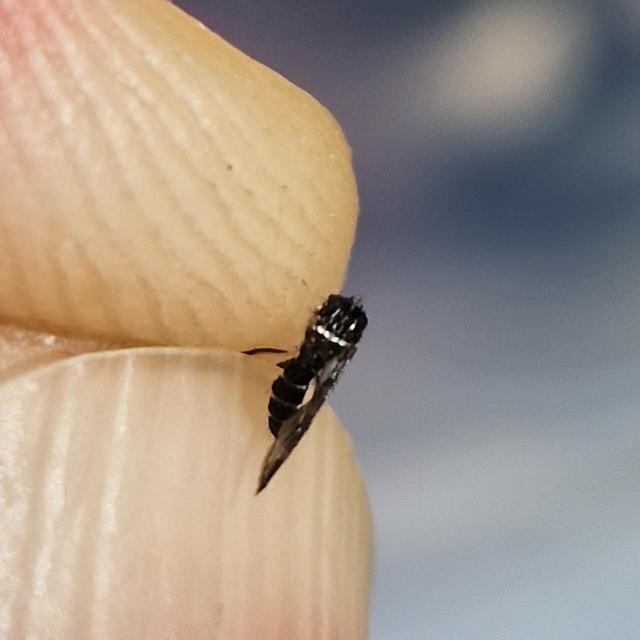albopictus: (222, 287, 380, 492)
